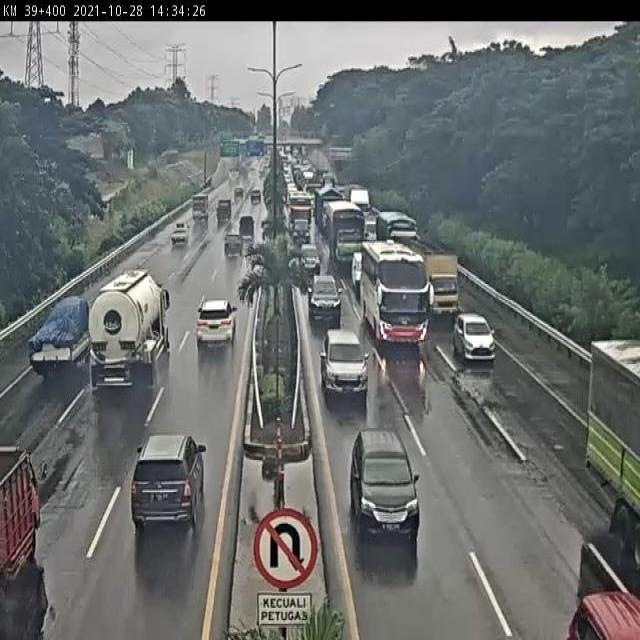big bus: (359, 238, 430, 346)
big truck: (89, 268, 174, 396), (26, 293, 93, 375), (418, 244, 462, 319), (325, 203, 365, 268), (374, 208, 421, 248)
car: (349, 428, 422, 541), (131, 432, 206, 528), (321, 328, 369, 397), (453, 310, 497, 366), (195, 297, 239, 347), (308, 272, 343, 319), (297, 244, 323, 279), (349, 252, 366, 289), (223, 232, 244, 259), (169, 219, 190, 245)
small truck: (0, 436, 52, 585)
